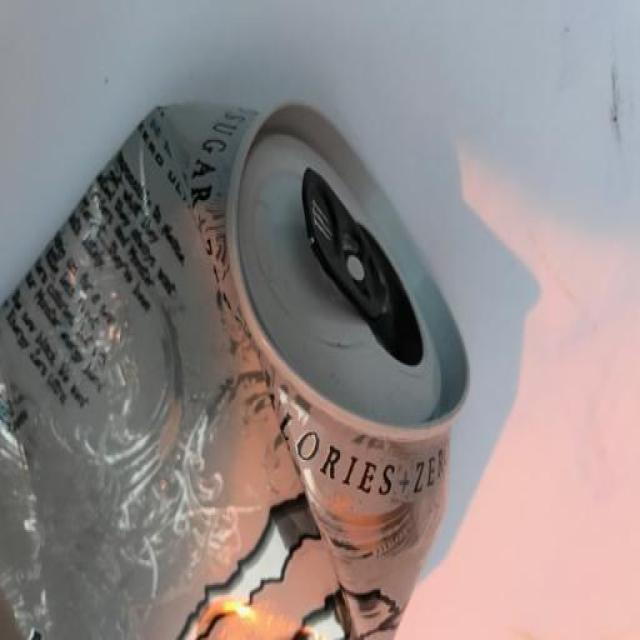Metal: (0, 97, 469, 640)
